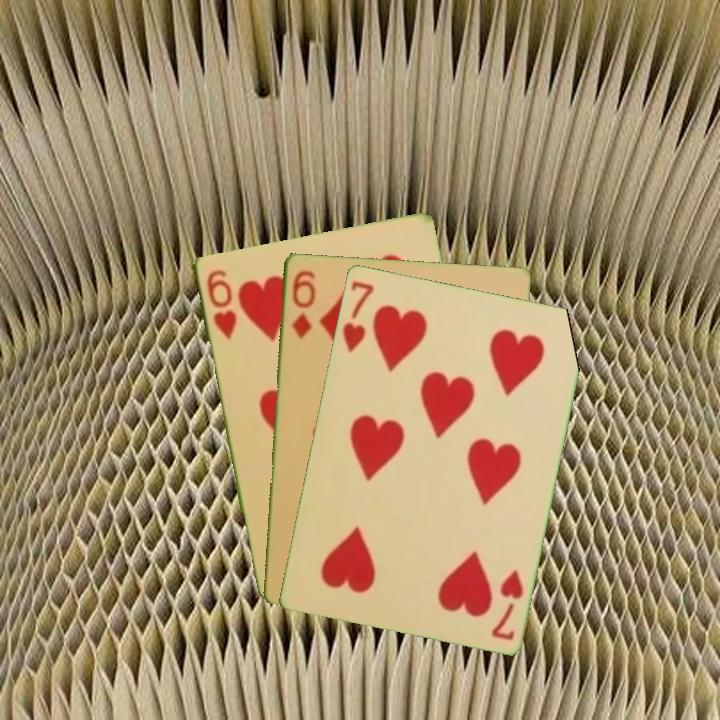6d: (287, 266, 318, 342)
6h: (202, 265, 239, 342)
7h: (338, 277, 377, 355), (487, 566, 526, 643)
